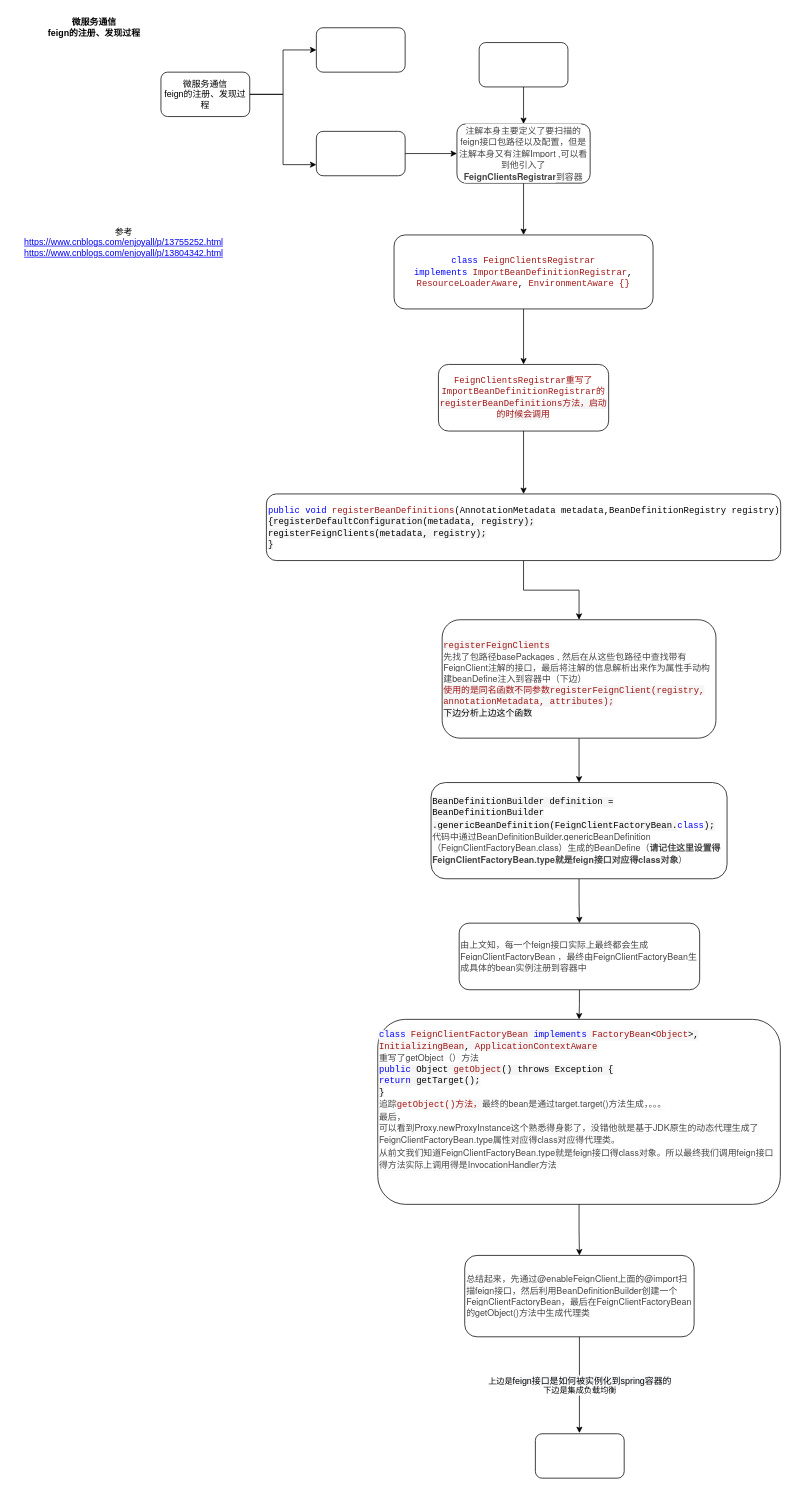
Some shapes in this 793 by 1491 pixel diagram are drawn without their labels. The shapes that lost their labels are listed below. From the top down, each one's centre as x and y in pixels, then its label:
At point (360, 49): "定义一个接口并用FeignClient注解说明接口所在服务和路径".
At point (523, 64): "feign接口是如何被实例化到spring容器的".
At point (360, 153): "服务启动类上添加@EnableFeignClients".
